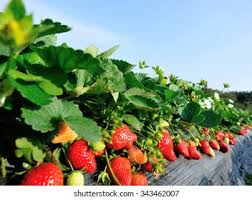ripe: (64, 136, 100, 173), (20, 161, 65, 189), (104, 153, 133, 185), (108, 120, 140, 148), (155, 128, 176, 162), (176, 139, 192, 160), (130, 173, 150, 188), (189, 140, 203, 158), (203, 138, 210, 156)
unripe: (126, 144, 149, 164), (66, 167, 86, 189), (208, 144, 216, 156)
